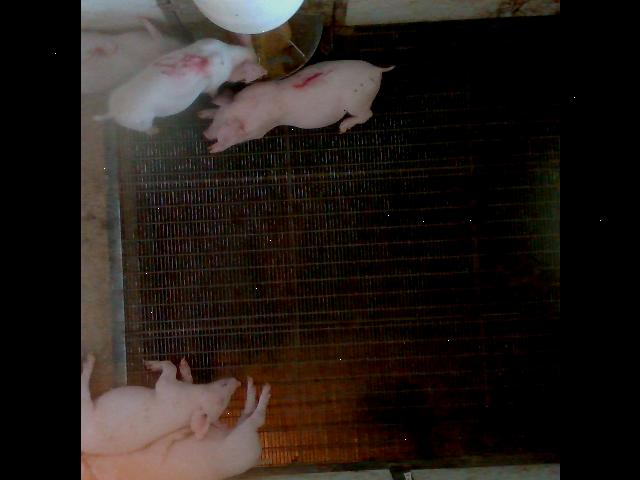pig-1: (201, 60, 392, 152), (80, 19, 184, 94)
pig-5: (93, 35, 265, 134)
